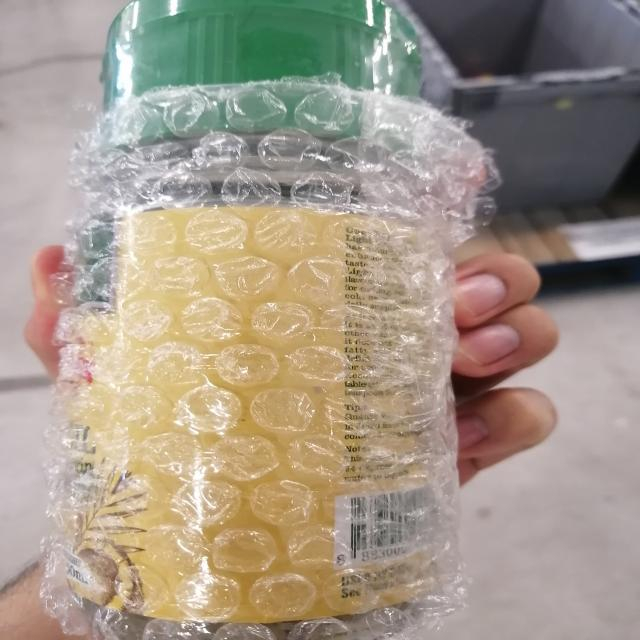object_name: (106, 11, 444, 635)
